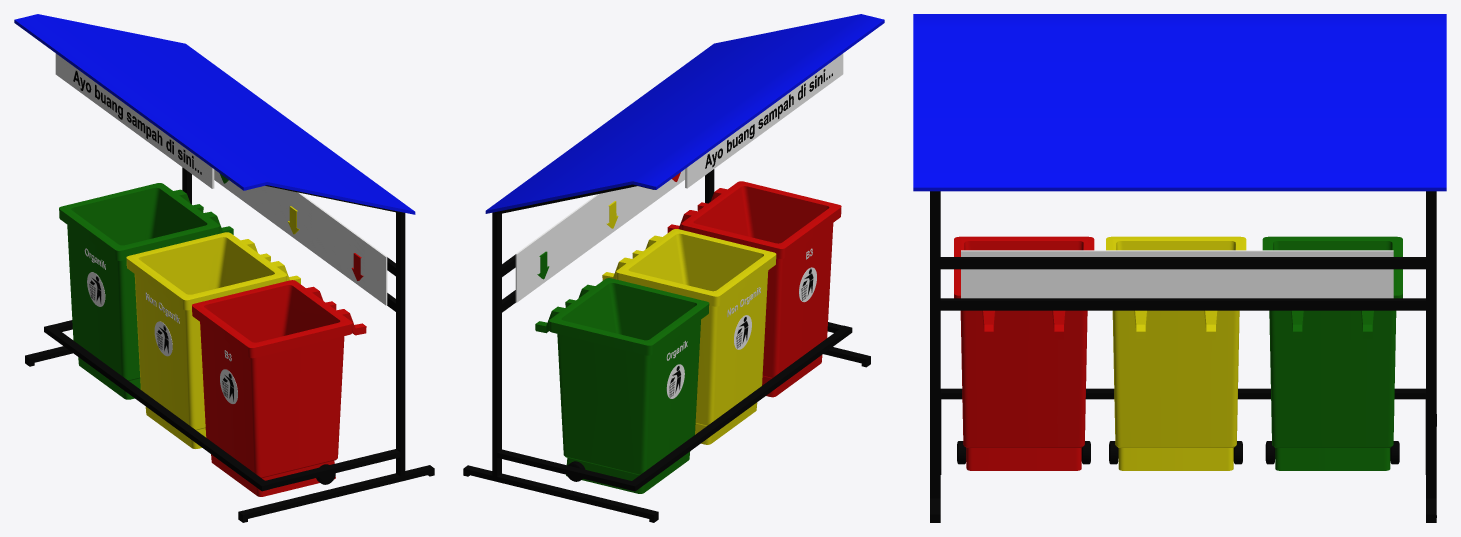
File: Tempat Sampah 1.fbx
3 views of the same model, side by side, from view 1: azimuth 30°, elevation 25°; view 2: azimuth 150°, elevation 25°; view 3: azimuth 270°, elevation 25° (orthographic). The views are drawn at different scales.
Parts seen in each view (by area): view 1: Tempat Sampah Merah, atap_tong sampah, Tempat Sampah Hijau, Tempat Sampah Kuning, tiang_tong sampah, papan_panah, papan_ayo, Ayo buang sampah di sini...; view 2: Tempat Sampah Hijau, atap_tong sampah, Tempat Sampah Kuning, Tempat Sampah Merah, tiang_tong sampah, papan_panah, papan_ayo, Ayo buang sampah di sini...; view 3: atap_tong sampah, Tempat Sampah Hijau, Tempat Sampah Merah, Tempat Sampah Kuning, tiang_tong sampah, papan_panah.
Part boxes in pixels (x1,y1,x2,y2): Tempat Sampah Merah: (192,280,366,496); atap_tong sampah: (14,14,415,214); Tempat Sampah Hijau: (59,183,233,399); Tempat Sampah Kuning: (126,232,300,448); tiang_tong sampah: (25,167,434,522); papan_panah: (214,169,387,305); papan_ayo: (55,53,214,188); Ayo buang sampah di sini...: (73,70,201,174); Tempat Sampah Hijau: (535,278,709,493); atap_tong sampah: (485,14,884,213); Tempat Sampah Kuning: (602,229,776,444); Tempat Sampah Merah: (667,181,841,397); tiang_tong sampah: (463,169,870,522); papan_panah: (515,169,684,302); papan_ayo: (685,53,843,188); Ayo buang sampah di sini...: (705,69,832,168); atap_tong sampah: (913,14,1446,191); Tempat Sampah Hijau: (1262,236,1402,470); Tempat Sampah Merah: (954,236,1094,470); Tempat Sampah Kuning: (1106,236,1246,470); tiang_tong sampah: (930,191,1436,522); papan_panah: (961,250,1393,298).
Size of what is drawn, in the model's own units: 1268 by 2094 by 2545.
Materials: 7 (1 with a texture image).
